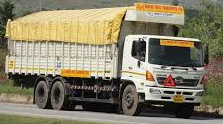truck: (5, 1, 209, 121)
